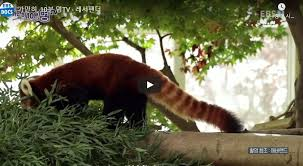redPanda: (10, 50, 248, 136)
